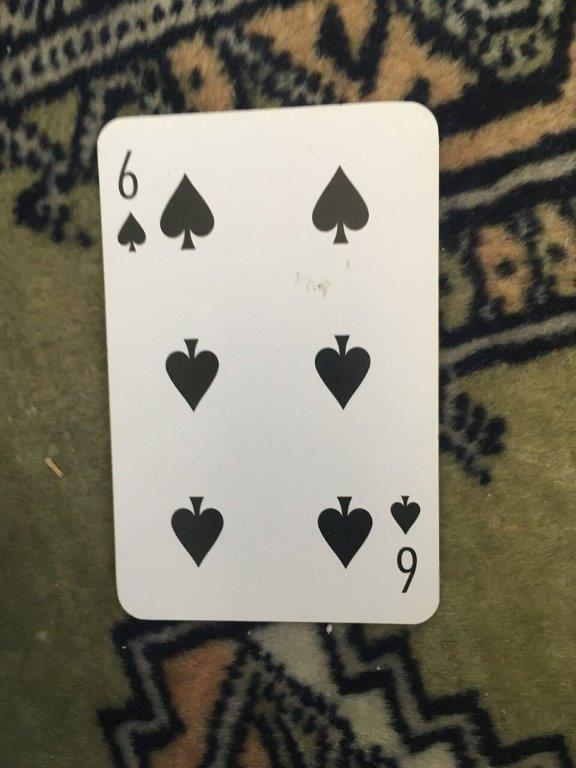6S: (92, 98, 444, 628)
